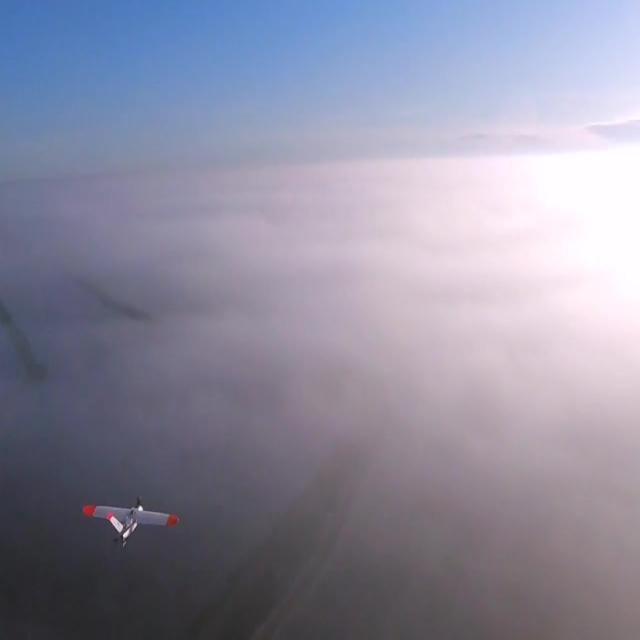iha: (113, 487, 148, 542)
